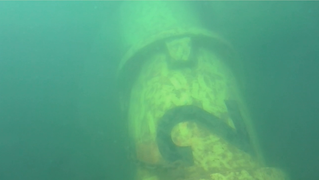2: (156, 98, 258, 167)
pipe: (114, 1, 287, 180)
